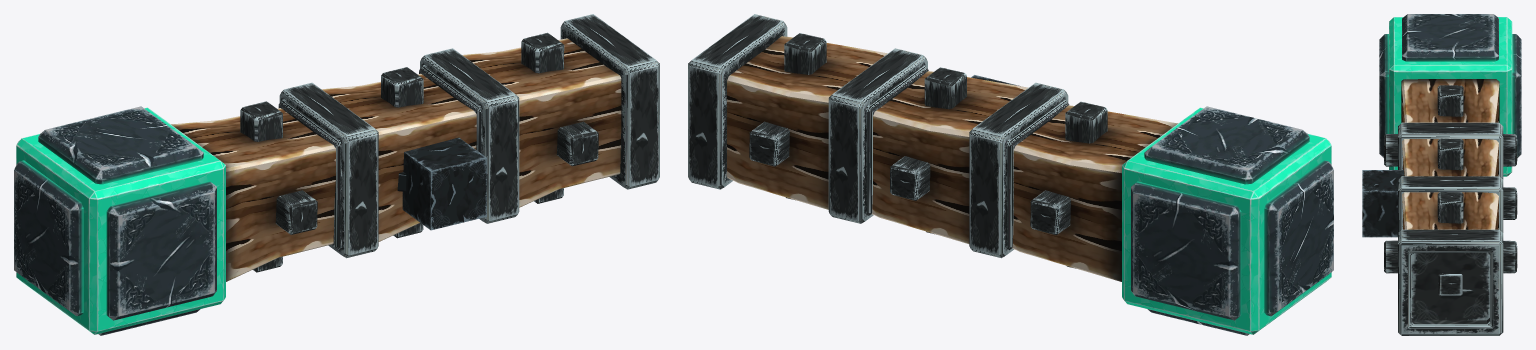
File: step_005.glb
The picture shows the model from 3 angles, left to right: view 1: azimuth 30°, elevation 25°; view 2: azimuth 150°, elevation 25°; view 3: azimuth 270°, elevation 25°; orthographic projection. The views are drawn at different scales.
Parts seen in each view (by area): view 1: SingleWoodenBlock_12c9bb10-82ed-4a1a-a479-a46bfc47bf6e, StartingBlock_74c47283-72fb-4408-a40b-371f75eef3d3, StartPoint_87a4f15e-b9b6-4721-ae35-d45cb3f66fa6; view 2: SingleWoodenBlock_12c9bb10-82ed-4a1a-a479-a46bfc47bf6e, StartingBlock_74c47283-72fb-4408-a40b-371f75eef3d3; view 3: SingleWoodenBlock_12c9bb10-82ed-4a1a-a479-a46bfc47bf6e, StartingBlock_74c47283-72fb-4408-a40b-371f75eef3d3, StartPoint_87a4f15e-b9b6-4721-ae35-d45cb3f66fa6.
Part boxes in pixels (<box>): SingleWoodenBlock_12c9bb10-82ed-4a1a-a479-a46bfc47bf6e: <box>171,14,659,281</box>; StartingBlock_74c47283-72fb-4408-a40b-371f75eef3d3: <box>14,106,225,335</box>; StartPoint_87a4f15e-b9b6-4721-ae35-d45cb3f66fa6: <box>397,137,486,230</box>; SingleWoodenBlock_12c9bb10-82ed-4a1a-a479-a46bfc47bf6e: <box>688,14,1177,281</box>; StartingBlock_74c47283-72fb-4408-a40b-371f75eef3d3: <box>1122,106,1333,335</box>; SingleWoodenBlock_12c9bb10-82ed-4a1a-a479-a46bfc47bf6e: <box>1384,79,1517,335</box>; StartingBlock_74c47283-72fb-4408-a40b-371f75eef3d3: <box>1379,14,1521,176</box>; StartPoint_87a4f15e-b9b6-4721-ae35-d45cb3f66fa6: <box>1362,170,1404,237</box>.
Size of the model in its own units: 4.18 by 1.13 by 1.26.
3 materials, 3 textured.
